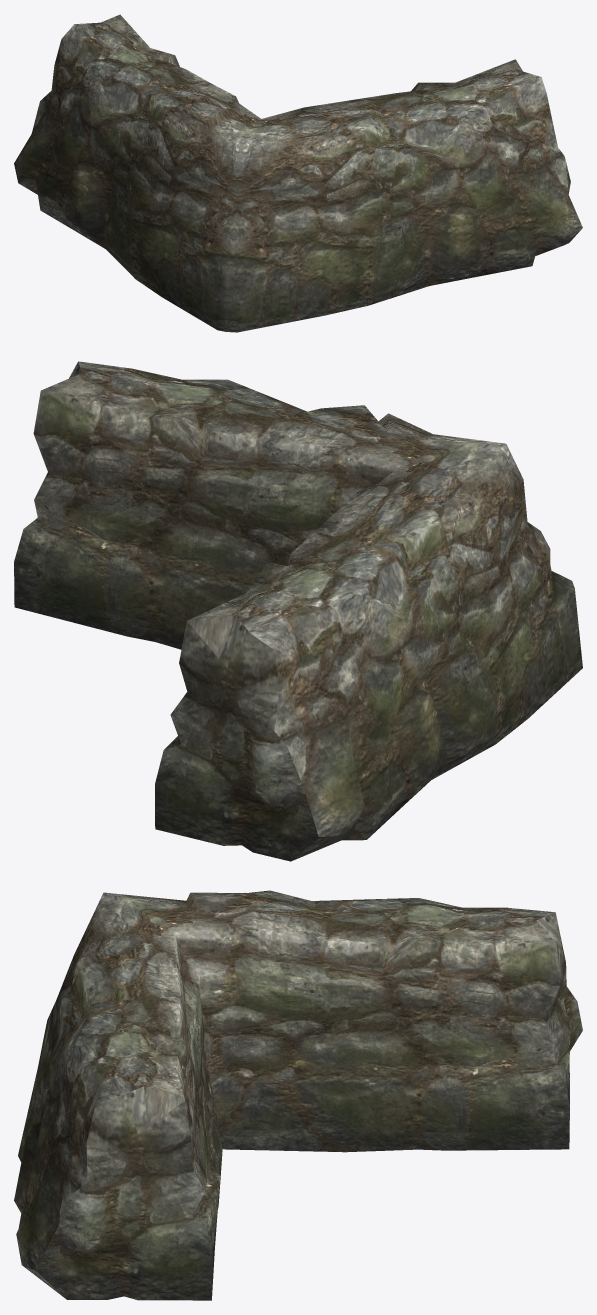
The model's file is shrine_rock_08.glb.
The picture shows the model from 3 angles, top to bottom: view 1: azimuth 30°, elevation 25°; view 2: azimuth 150°, elevation 25°; view 3: azimuth 270°, elevation 25°; orthographic projection. The views are drawn at different scales.
Visible parts, largest first — view 1: Shrine_rock_08; view 2: Shrine_rock_08; view 3: Shrine_rock_08.
Boxes of the visible parts, left/top/right/bottom form: Shrine_rock_08: left=14, top=14, right=582, bottom=332; Shrine_rock_08: left=14, top=361, right=582, bottom=861; Shrine_rock_08: left=14, top=890, right=582, bottom=1300.
Bounding box in the file's own units: 8.82 × 3.71 × 8.82.
1 material, 1 textured.
